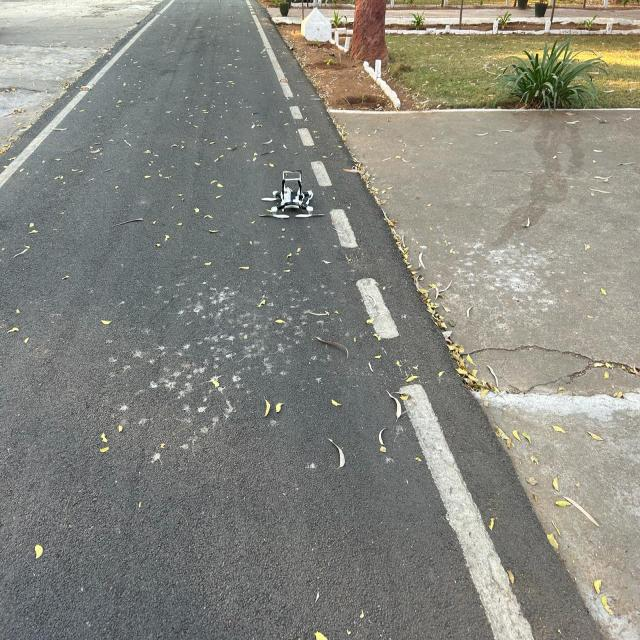drone: (246, 122, 343, 262)
